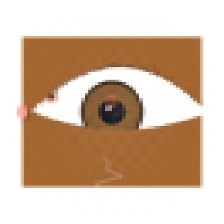foreign_body_visible: (99, 93, 124, 113)
